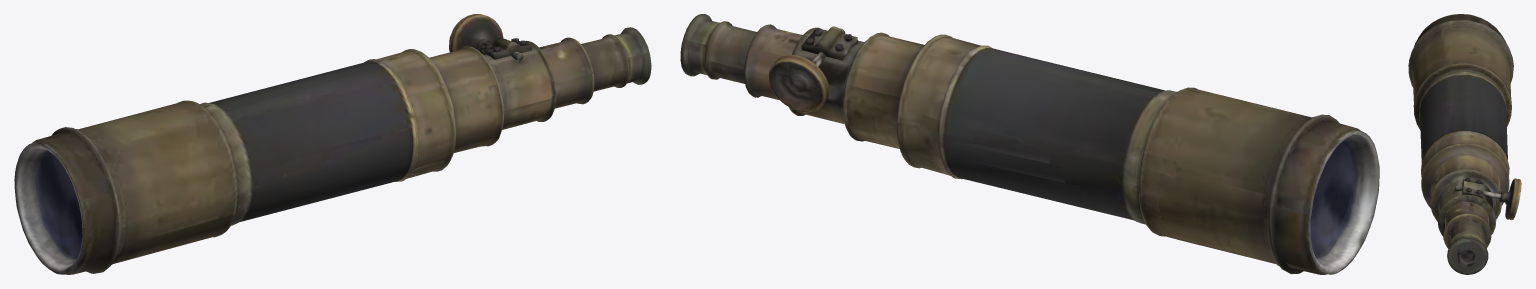
The model's file is obj_military_telescope.glb.
3 renders of one model, left to right at view 1: azimuth 30°, elevation 25°; view 2: azimuth 150°, elevation 25°; view 3: azimuth 270°, elevation 25°, orthographic. The views are drawn at different scales.
Visible parts, largest first — view 1: Object_2; view 2: Object_2; view 3: Object_2.
Boxes of the visible parts, x1,y1,x2,y2 form: Object_2: (14,14,651,274); Object_2: (680,14,1379,274); Object_2: (1408,14,1521,274).
Size of the model in its own units: 0.4499 by 0.0985 by 0.1056.
3 materials, 3 textured.
